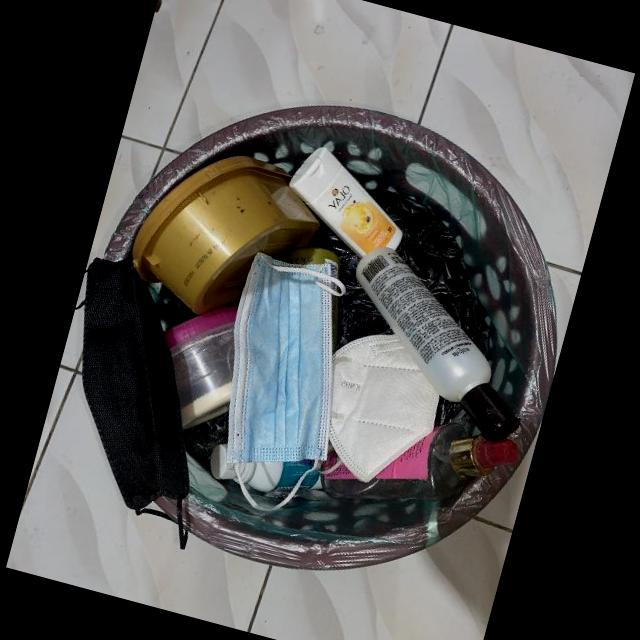chai_nhua: (354, 247, 519, 442), (320, 423, 520, 500), (288, 147, 402, 259), (209, 444, 321, 490)
hop_nhua: (131, 156, 320, 315), (163, 302, 236, 428)
khau_trang: (83, 257, 189, 511), (226, 252, 346, 464), (329, 335, 437, 481)
